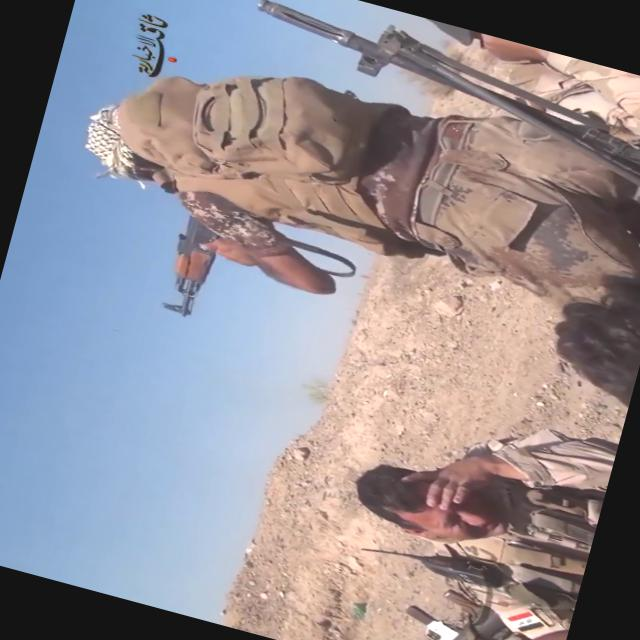long weapon: (144, 192, 252, 331), (373, 578, 515, 639)
